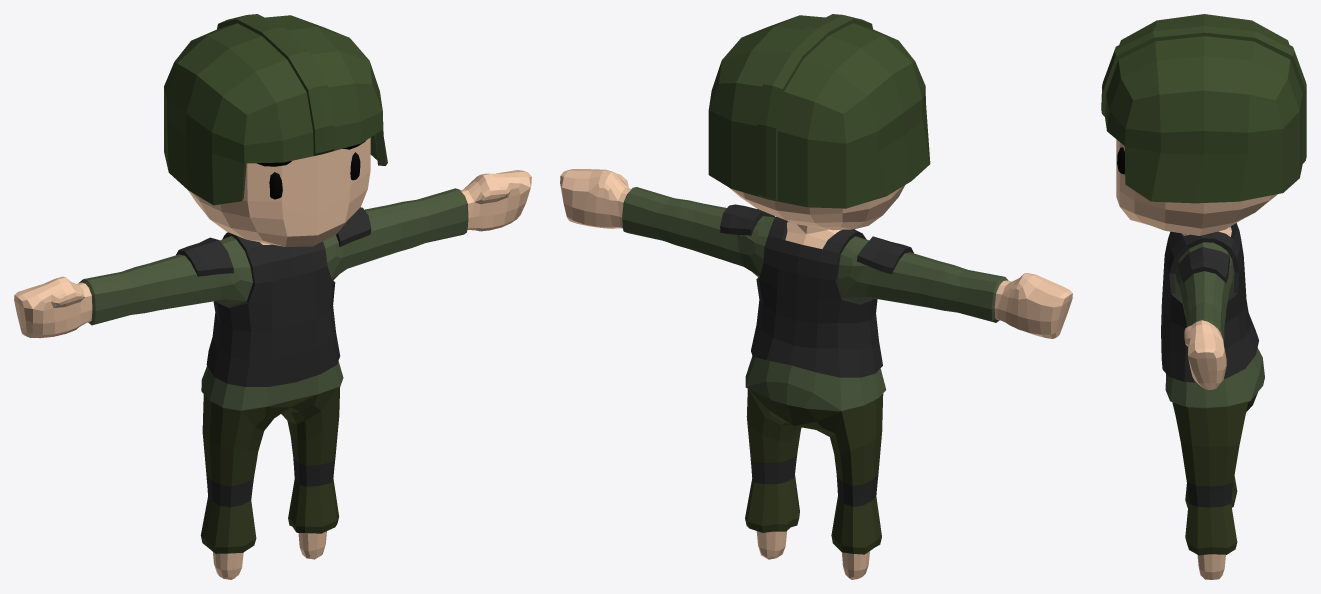
The model's file is SOLDIER.fbx.
3 renders of one model, left to right at view 1: azimuth 30°, elevation 25°; view 2: azimuth 150°, elevation 25°; view 3: azimuth 270°, elevation 25°, orthographic.
Parts seen in each view (by area): view 1: Body; view 2: Body; view 3: Body.
Boxes of the visible parts, x1,y1,x2,y2 form: Body: [14, 14, 531, 579]; Body: [560, 14, 1072, 579]; Body: [1101, 14, 1306, 579].
Size of the model in its own units: 324 by 328 by 115.
